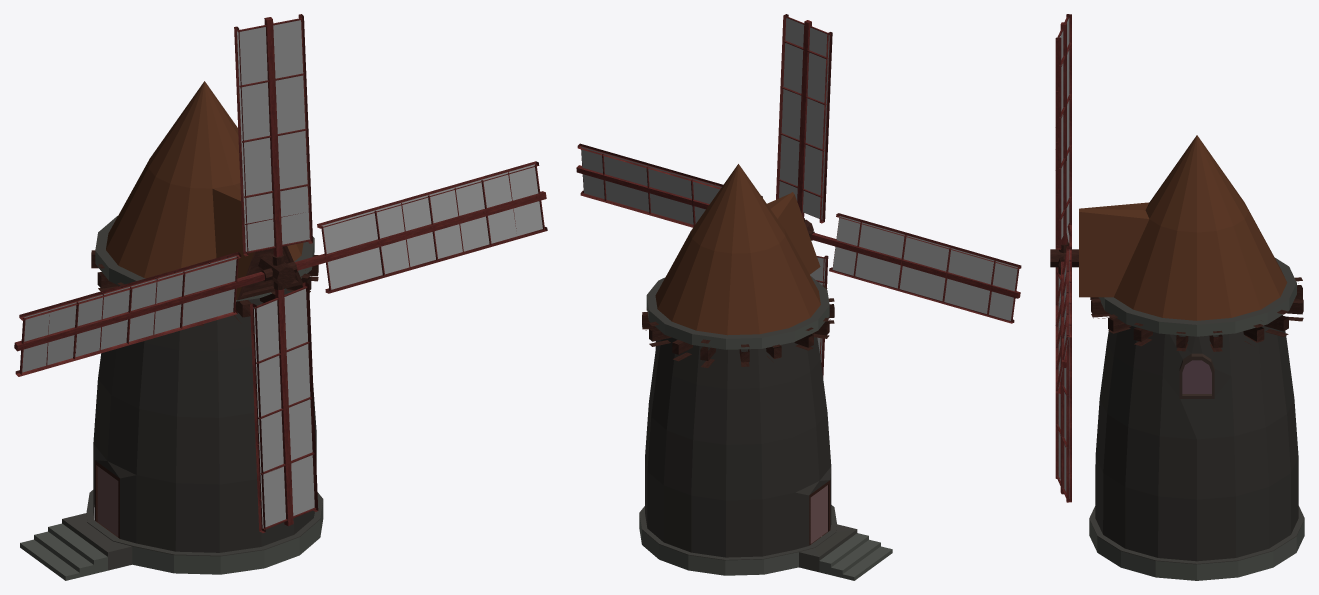
Rendered from windmill.zfix-v14.lod0.glb.
3 views of the same model, side by side, from view 1: azimuth 30°, elevation 25°; view 2: azimuth 150°, elevation 25°; view 3: azimuth 270°, elevation 25° (orthographic). The views are drawn at different scales.
Parts seen in each view (by area): view 1: Object_4, Object_35, Object_20; view 2: Object_4, Object_35, Object_20; view 3: Object_4, Object_35, Object_20.
Part boxes in pixels (left/top/right/bottom): Object_4: left=20, top=20, right=542, bottom=580; Object_35: left=14, top=14, right=547, bottom=532; Object_20: left=91, top=246, right=318, bottom=538; Object_4: left=581, top=18, right=1017, bottom=580; Object_35: left=576, top=14, right=1021, bottom=377; Object_20: left=642, top=218, right=834, bottom=545; Object_4: left=1058, top=18, right=1304, bottom=580; Object_35: left=1055, top=14, right=1071, bottom=502; Object_20: left=1050, top=242, right=1303, bottom=351.
Size of the model in its own units: 11.81 by 12 by 5.46.
3 materials, 2 textured.
